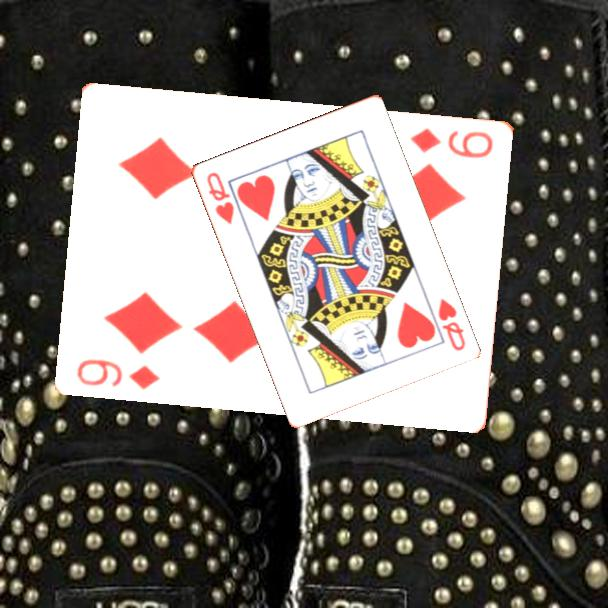d09: (74, 355, 164, 392), (408, 124, 497, 161)
h12: (203, 168, 237, 228), (434, 294, 468, 354)
